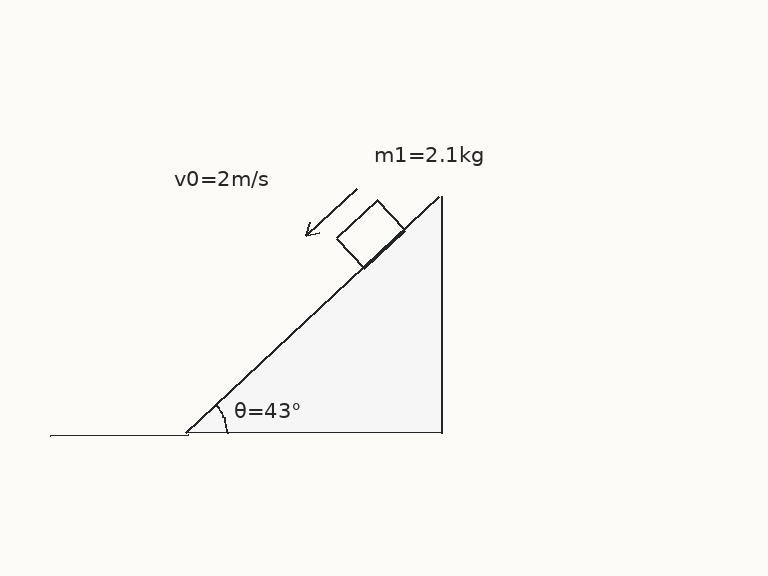block: (334, 198, 407, 270)
ramp: (185, 194, 443, 435)
